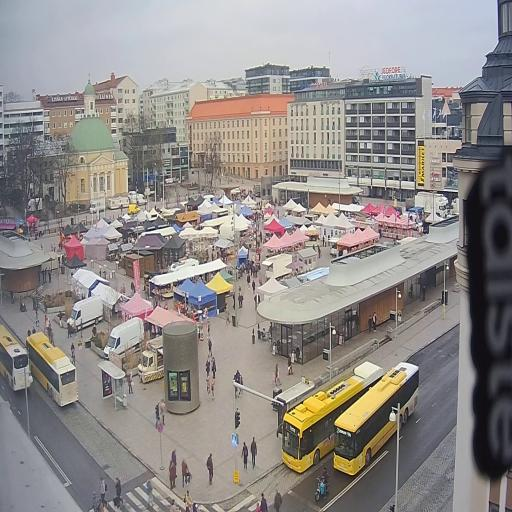bus: (282, 361, 383, 472), (334, 362, 418, 475), (26, 332, 78, 406), (0, 325, 33, 390), (0, 325, 28, 374)
delivery: (103, 317, 144, 359), (67, 296, 103, 332), (138, 336, 163, 383), (415, 192, 449, 217)
two-wheels: (315, 467, 329, 501)
